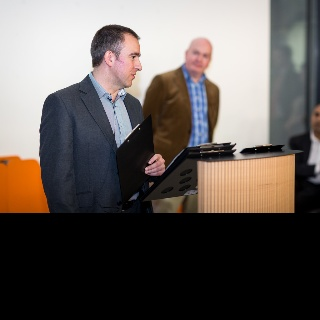without_mask: (114, 37, 142, 87), (186, 42, 211, 71)
